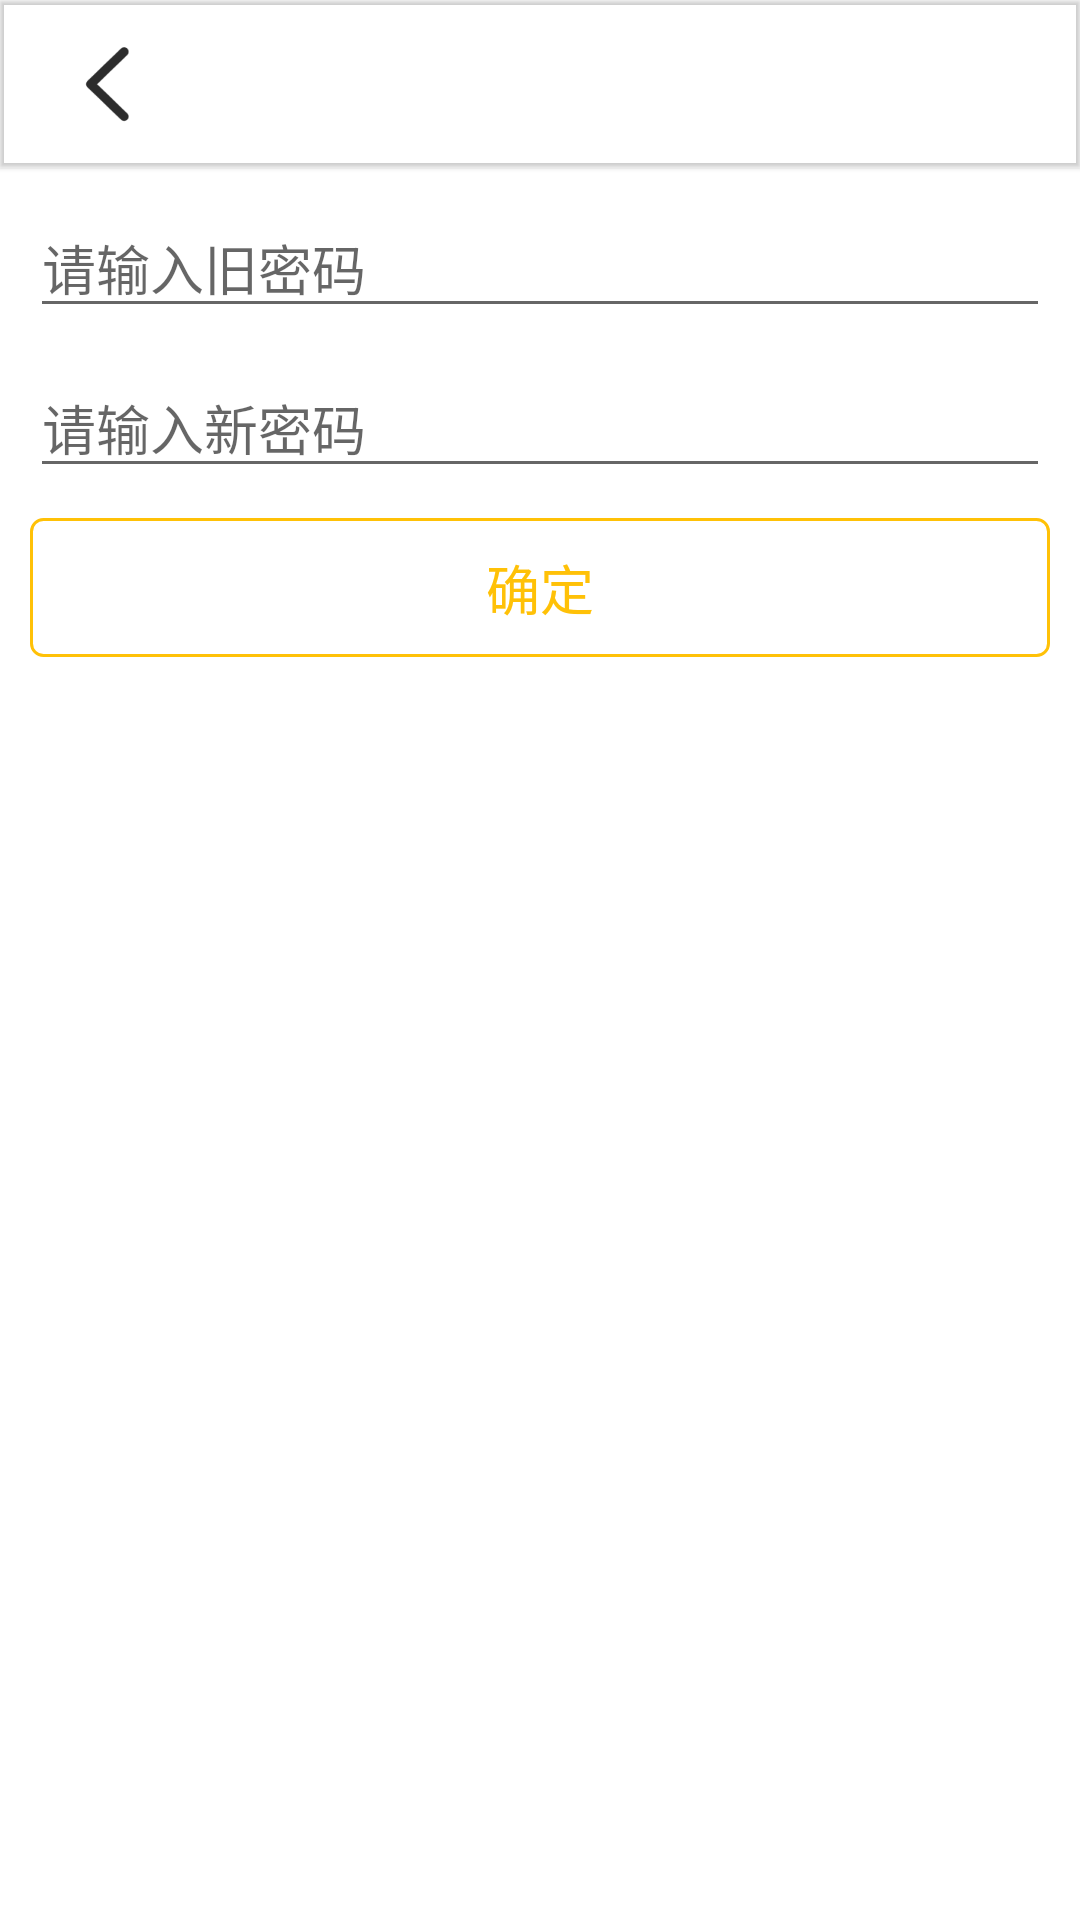

Icons on this 1080px×1920px Android screen, each with its box as (x1, y1, x2, y2):
back: (86, 47, 129, 121)
